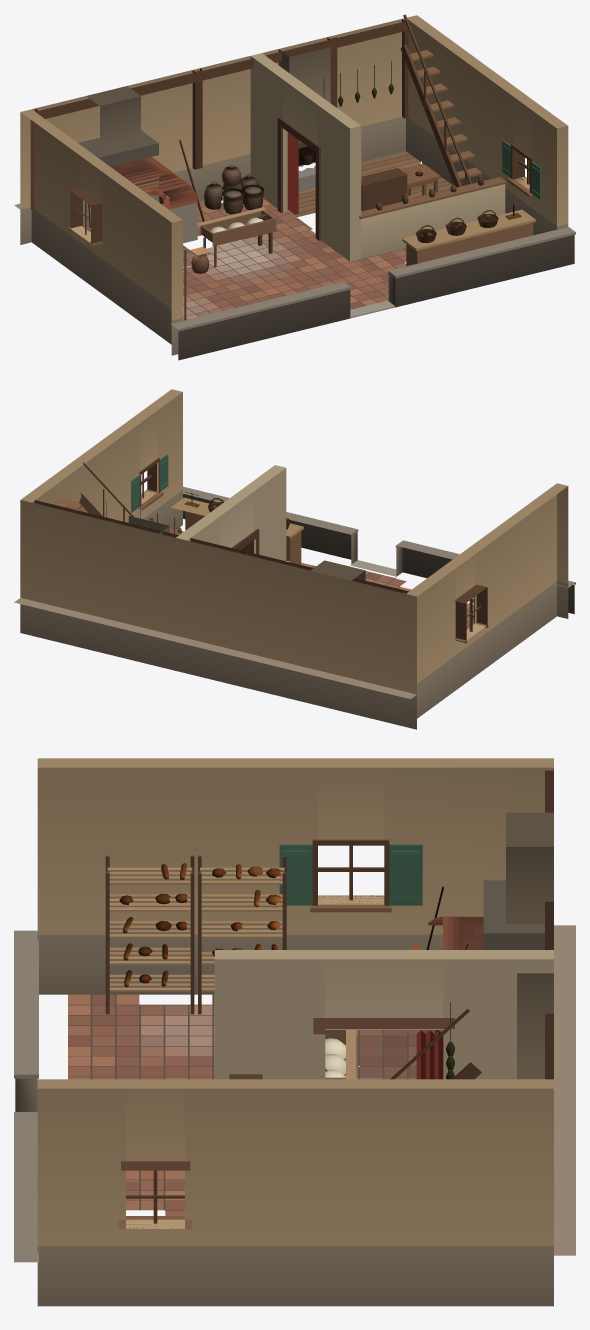
File: int_horno.glb
3 views of the same model, one above another, from view 1: azimuth 30°, elevation 25°; view 2: azimuth 150°, elevation 25°; view 3: azimuth 270°, elevation 25° (orthographic). The views are drawn at different scales.
Parts seen in each view (by area): view 1: fijo, piezas; view 2: fijo; view 3: fijo, piezas.
Boxes of the visible parts, <box> form: fijo: <box>14,14,575,360</box>; piezas: <box>88,60,521,273</box>; fijo: <box>14,389,575,729</box>; fijo: <box>14,758,575,1306</box>; piezas: <box>119,863,470,1079</box>.
Size of the model in its own units: 10.64 by 4.2 by 7.62.
